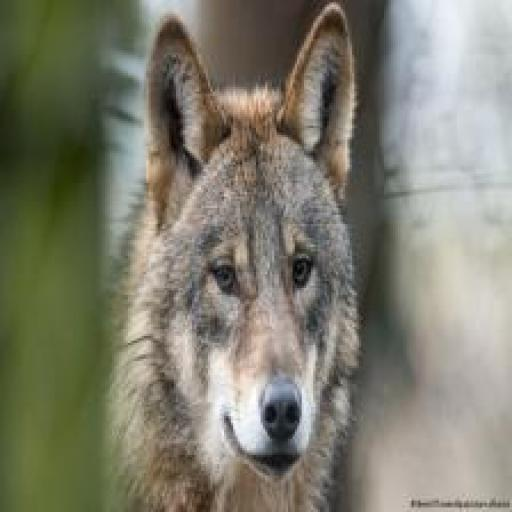wolf: (94, 0, 391, 512)
